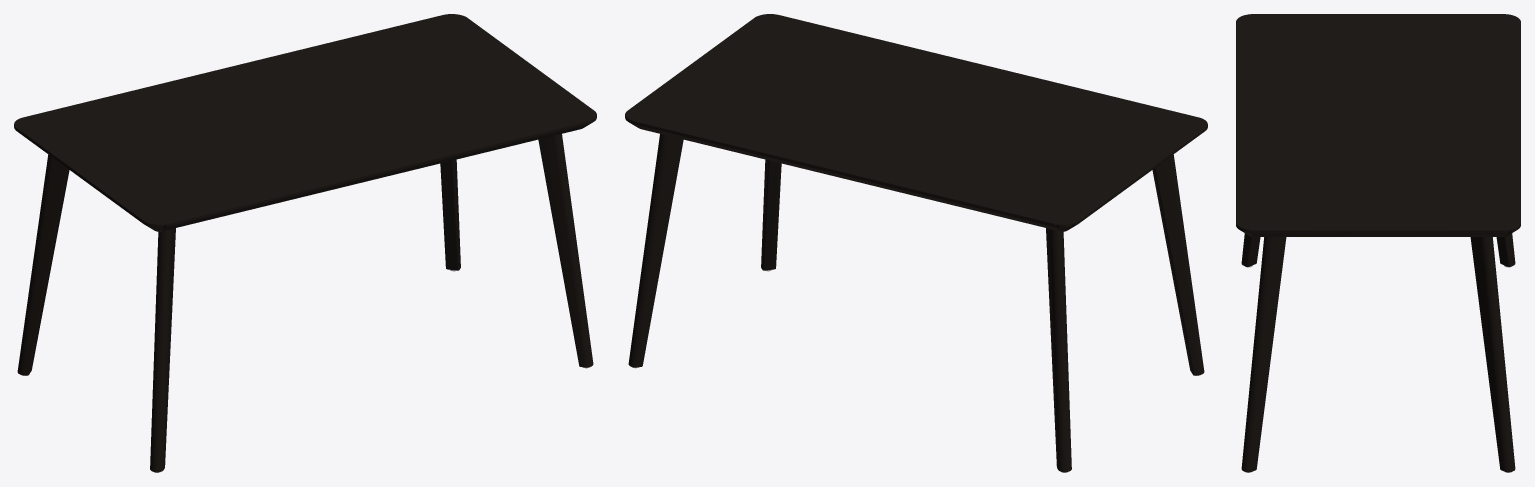
Rendered from 13 - LISABO Table - blackash veneer 140x78 cm.glb.
3 views of the same model, side by side, from view 1: azimuth 30°, elevation 25°; view 2: azimuth 150°, elevation 25°; view 3: azimuth 270°, elevation 25° (orthographic).
Visible parts, largest first — view 1: Mesh_0; view 2: Mesh_0; view 3: Mesh_0.
Part boxes in pixels (box(x1,y1,x2,y2)): Mesh_0: box(14, 14, 596, 472); Mesh_0: box(625, 14, 1207, 472); Mesh_0: box(1236, 14, 1520, 472).
Bounding box in the file's own units: 1.4 × 0.745 × 0.78.
Materials: 1 (1 with a texture image).
